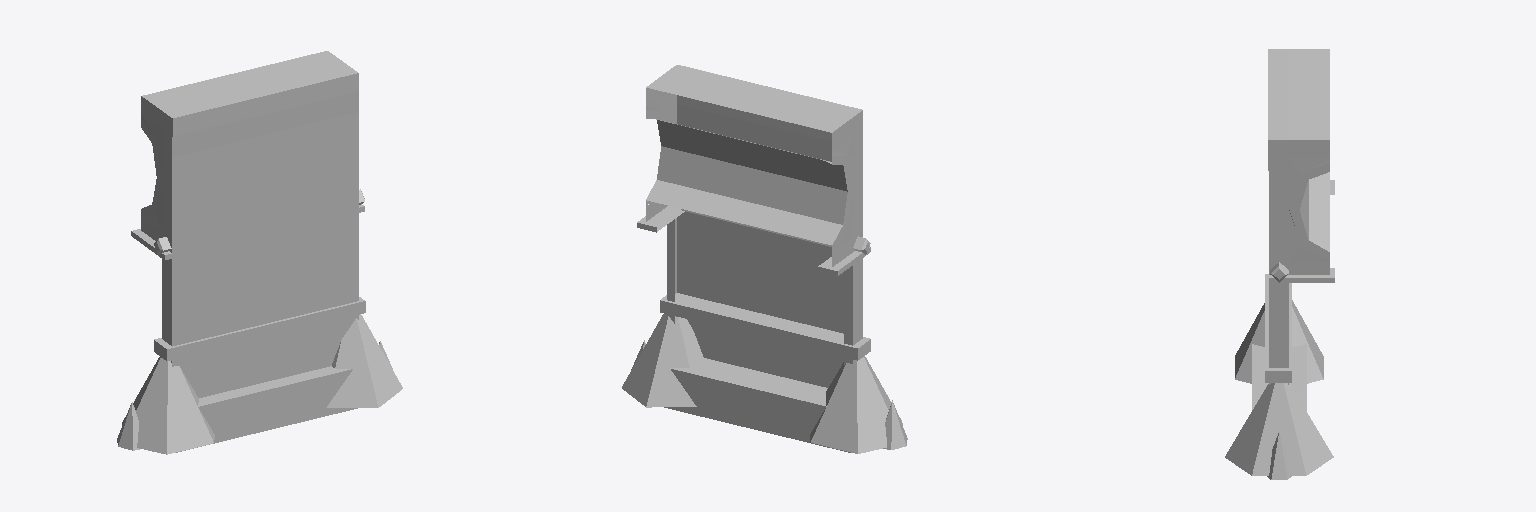
Rendered from bridge1.obj.
The picture shows the model from 3 angles: view 1: azimuth 30°, elevation 25°; view 2: azimuth 150°, elevation 25°; view 3: azimuth 270°, elevation 25°; orthographic projection.
Visible parts, largest first — view 1: bridge1; view 2: bridge1; view 3: bridge1.
Boxes of the visible parts, x1,y1,x2,y2 form: bridge1: [117, 51, 402, 454]; bridge1: [622, 65, 907, 453]; bridge1: [1225, 49, 1334, 479].
Size of the model in its own units: 47.42 by 53.64 by 16.49.